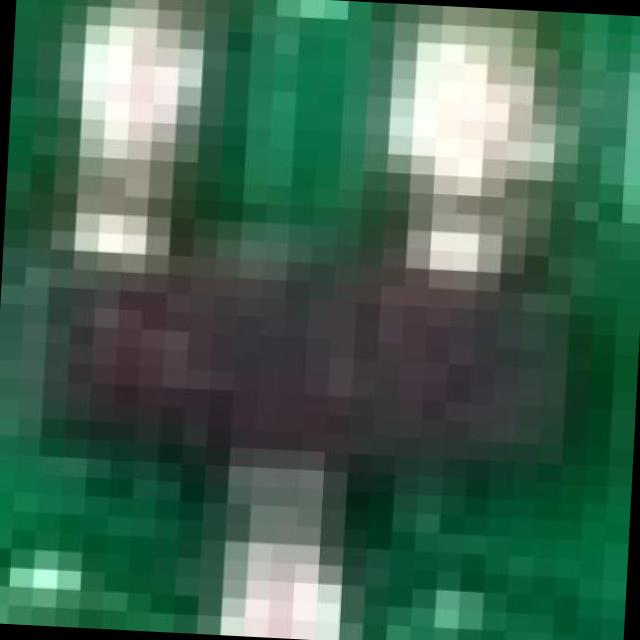transistor: (14, 92, 585, 547)
